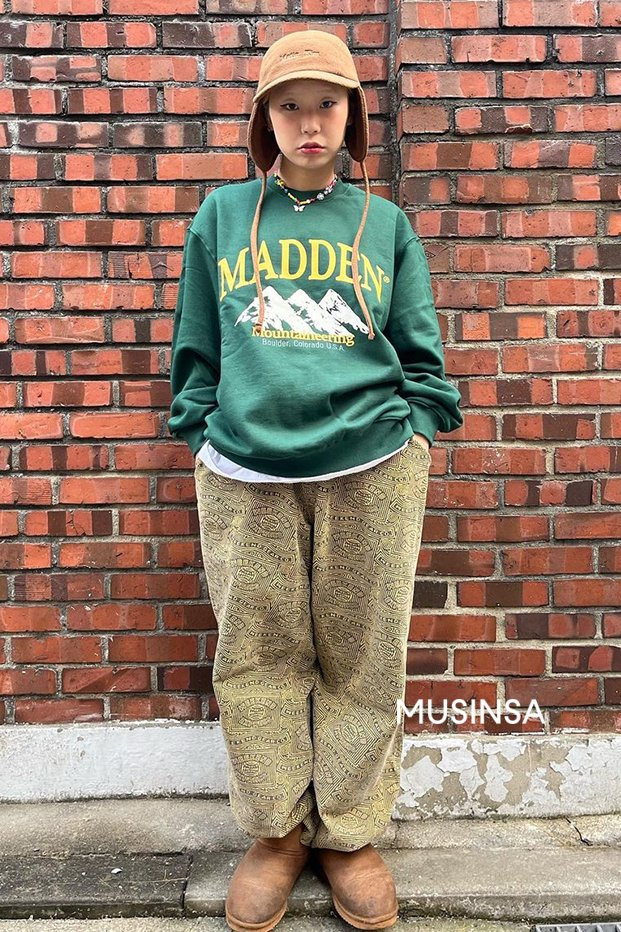Accessories: (269, 172, 353, 217)
Hat: (248, 30, 375, 167)
Pants: (189, 447, 415, 846)
Shoes: (227, 822, 403, 932)
Sweatshirt: (172, 175, 454, 449)
